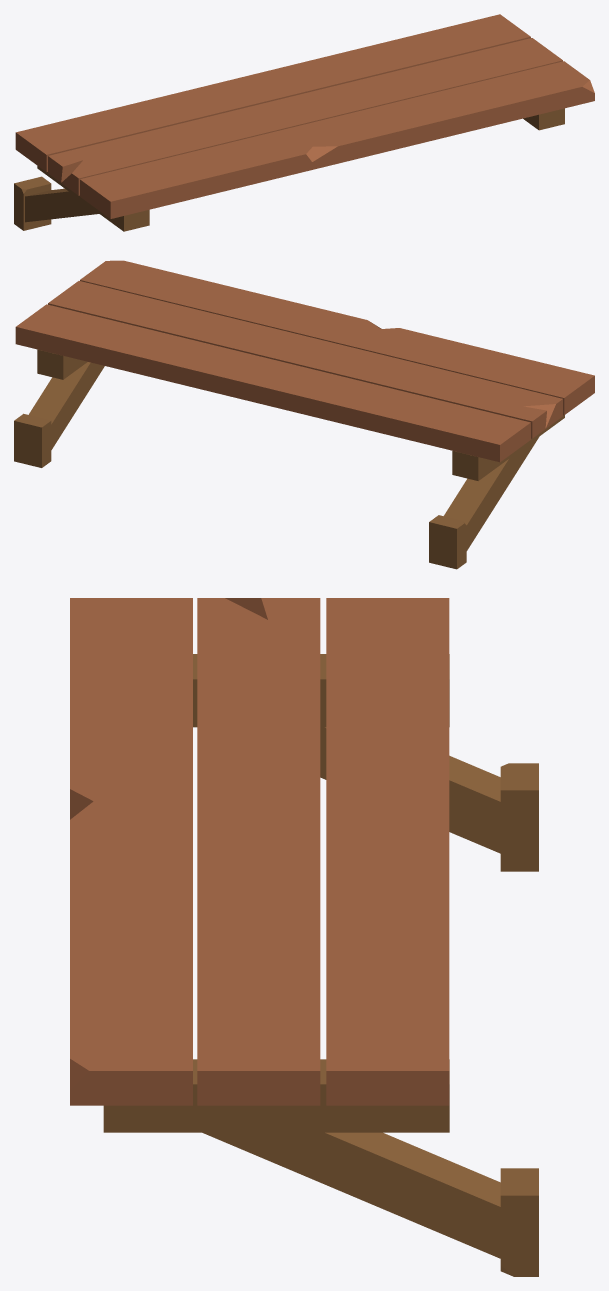
The model's file is wall_shelf.glb.
3 views of the same model, one above another, from view 1: azimuth 30°, elevation 25°; view 2: azimuth 150°, elevation 25°; view 3: azimuth 270°, elevation 25° (orthographic). The views are drawn at different scales.
Visible parts, largest first — view 1: wall_shelf; view 2: wall_shelf; view 3: wall_shelf.
Part boxes in pixels (x1=…): wall_shelf: x1=14, y1=14, x2=594, y2=231; wall_shelf: x1=14, y1=260, x2=594, y2=569; wall_shelf: x1=70, y1=598, x2=538, y2=1276.
Bounding box in the file's own units: 0.6301 × 0.1406 × 0.2643.
Materials: 1 (1 with a texture image).
